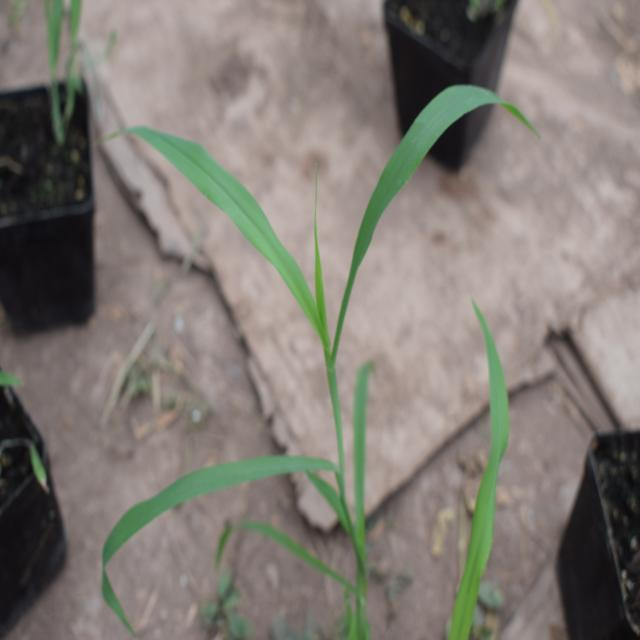crabgrass: (89, 84, 495, 571)
